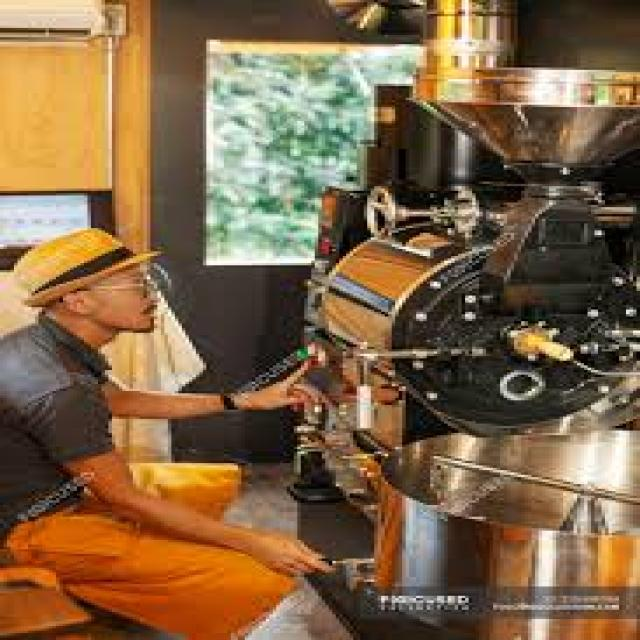hat: (10, 228, 168, 338)
